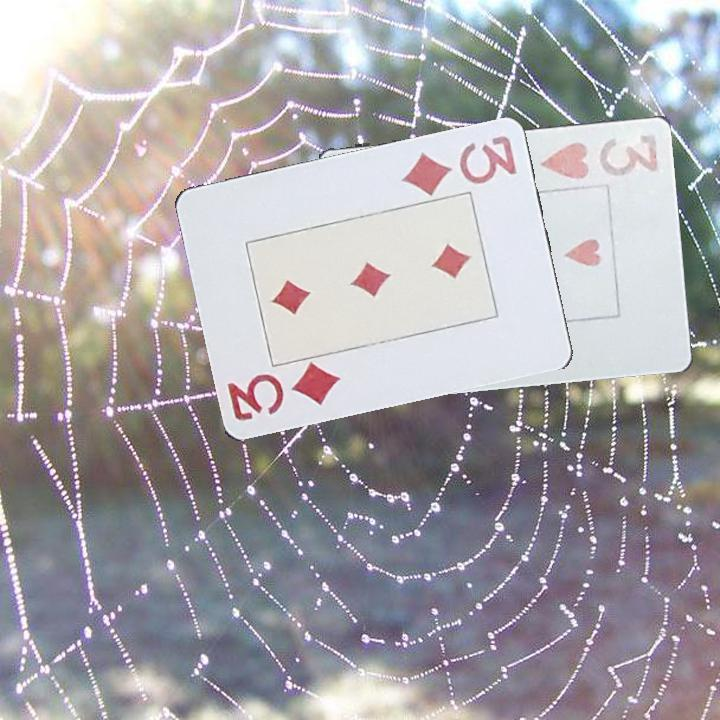3d: (397, 132, 519, 199), (223, 360, 343, 425)
3h: (537, 128, 661, 182)
